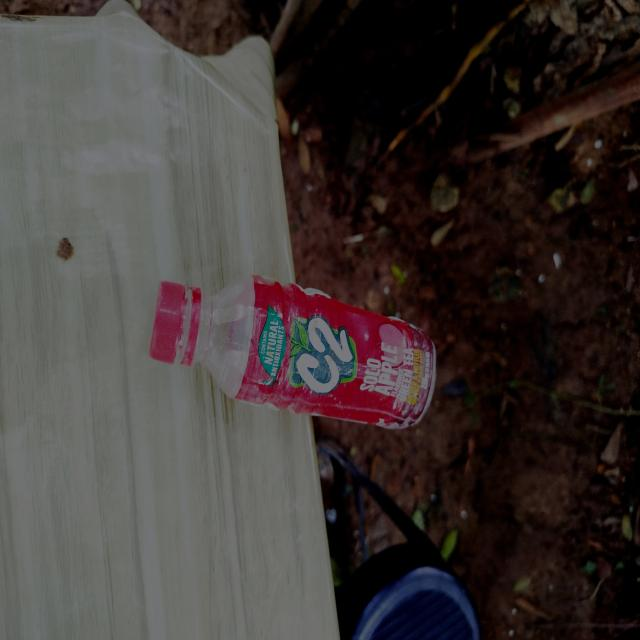plastic: (142, 250, 448, 447)
